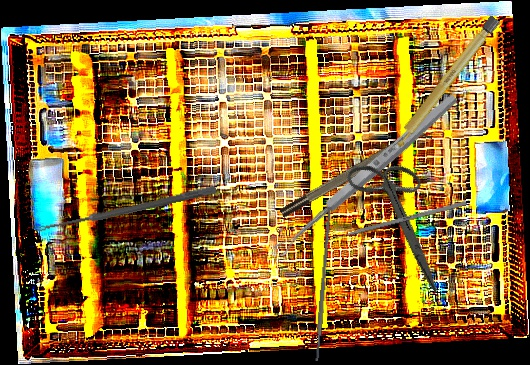Fixation Ring: (274, 119, 433, 221)
Iris Scissors: (318, 143, 484, 294)
Pusher: (318, 200, 468, 245)
Scalpel Handle: (388, 14, 501, 153), (313, 207, 333, 361)
Surgical Spoon: (272, 91, 460, 258), (35, 184, 217, 235)
